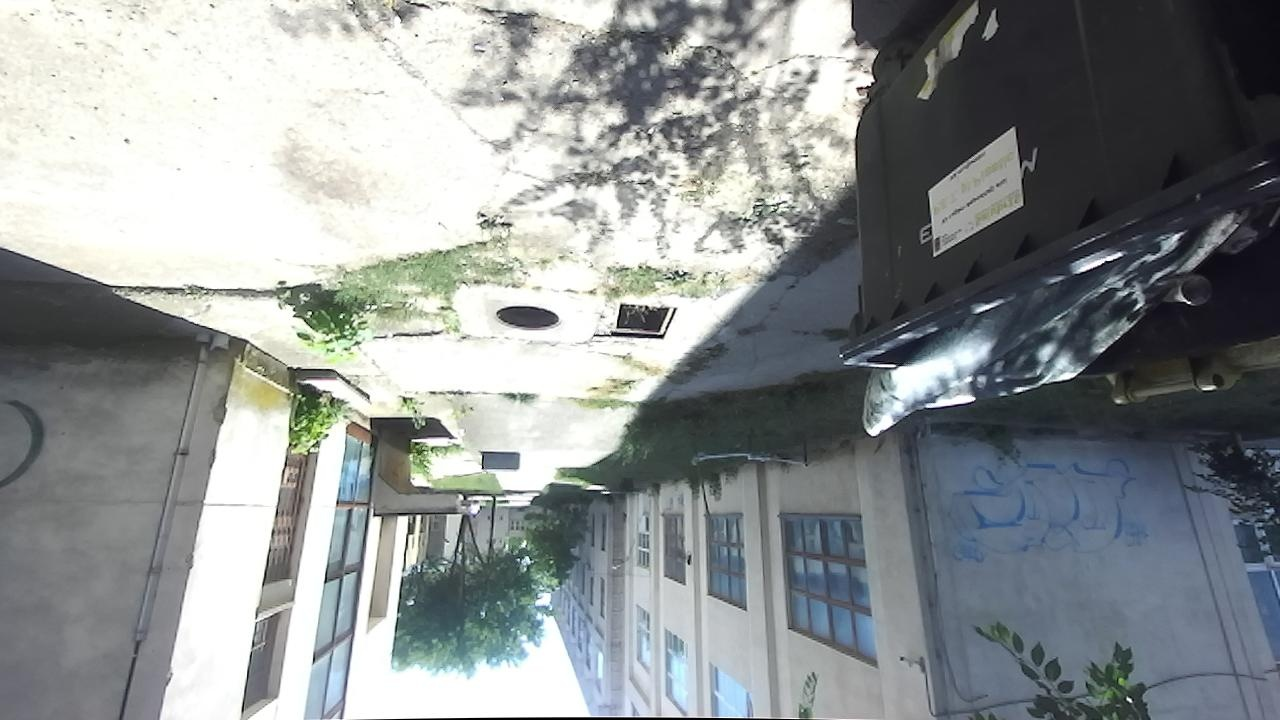drain: (488, 299, 563, 341), (609, 301, 677, 338)
